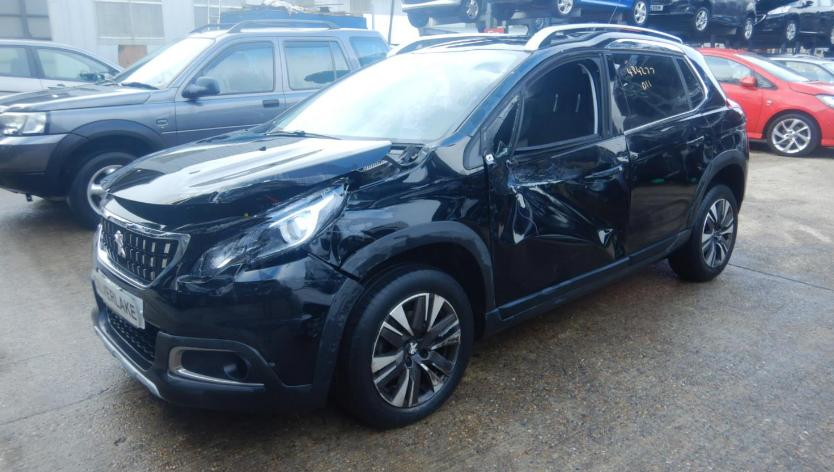Back-door: (606, 53, 712, 264)
Back-wheel: (669, 187, 738, 280)
Back-window: (618, 59, 688, 127), (678, 59, 703, 107)
Fender: (306, 134, 495, 311)
Front-bumper: (91, 220, 362, 406)
Front-door: (482, 50, 631, 317)
Front-wheel: (332, 262, 474, 429)
Front-window: (496, 62, 598, 154)
Grille: (99, 217, 178, 282)
Headlight: (202, 182, 348, 273)
Hood: (101, 129, 389, 203)
License-plate: (93, 270, 140, 328)
Quarter-panel: (687, 102, 749, 228)
Rocker-panel: (484, 230, 690, 338)
Roof: (407, 23, 680, 54)
Windshield: (265, 50, 528, 144)
